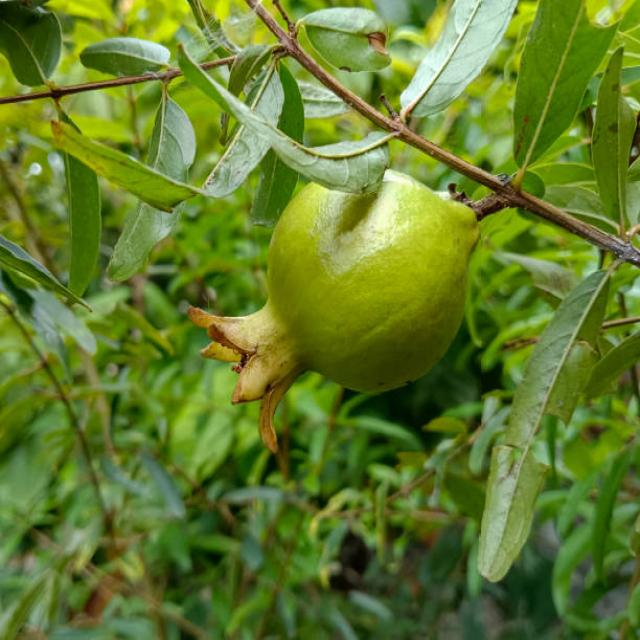Unripe: (184, 166, 479, 451)
